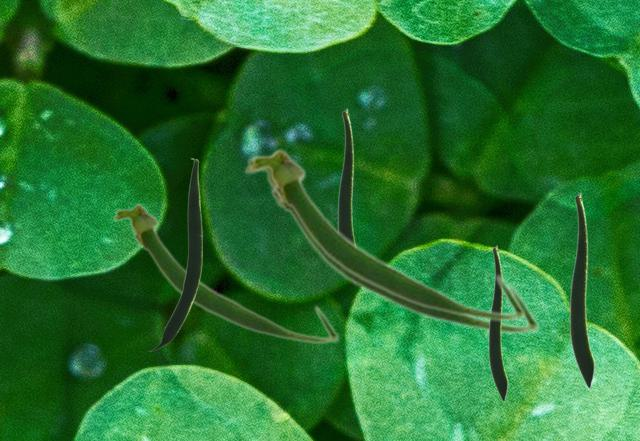french_bean: (242, 147, 540, 335), (247, 146, 526, 322), (111, 201, 339, 344), (149, 158, 201, 350), (569, 192, 594, 388), (488, 245, 507, 401), (337, 108, 355, 240)
